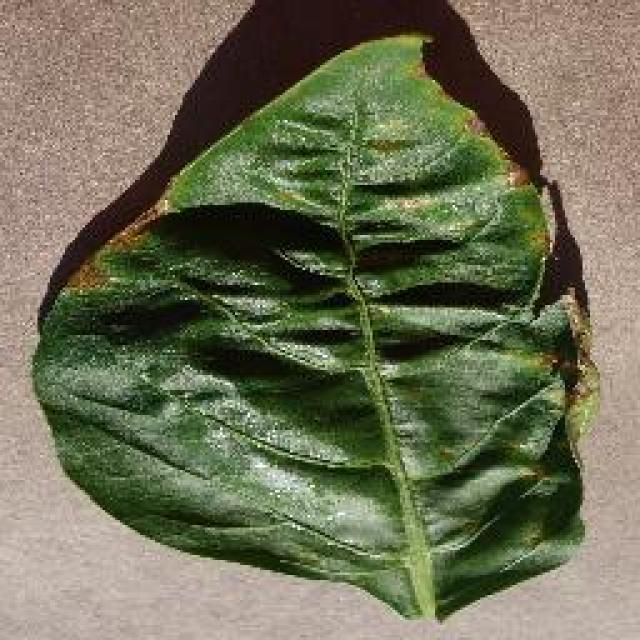Chilli_Bacterial_Spot: (28, 30, 602, 625), (530, 285, 602, 467), (58, 192, 170, 298), (358, 112, 418, 160), (502, 158, 532, 192)
